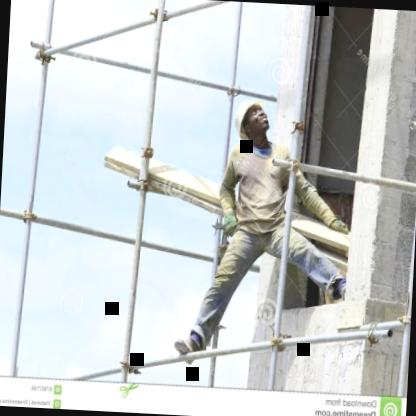helmet: (236, 100, 271, 144)
